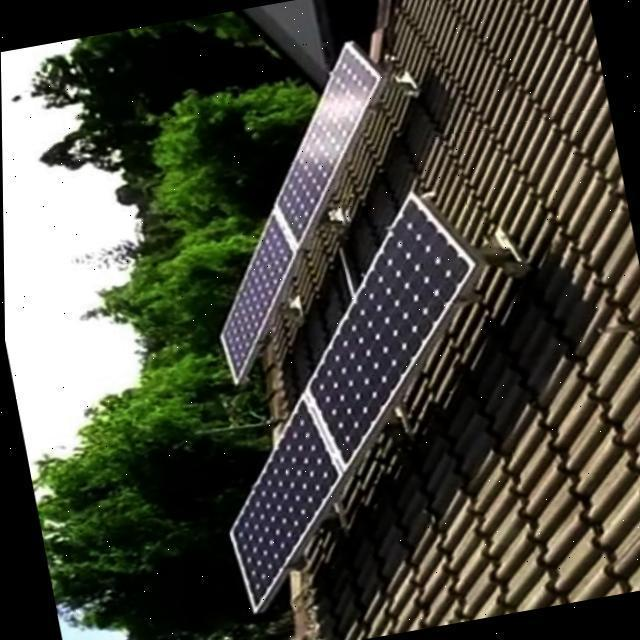Normal Solar Panel: (173, 182, 540, 614), (170, 36, 434, 383)
